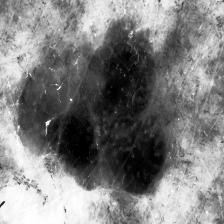Benign Marking or Mole: (25, 38, 178, 192)
